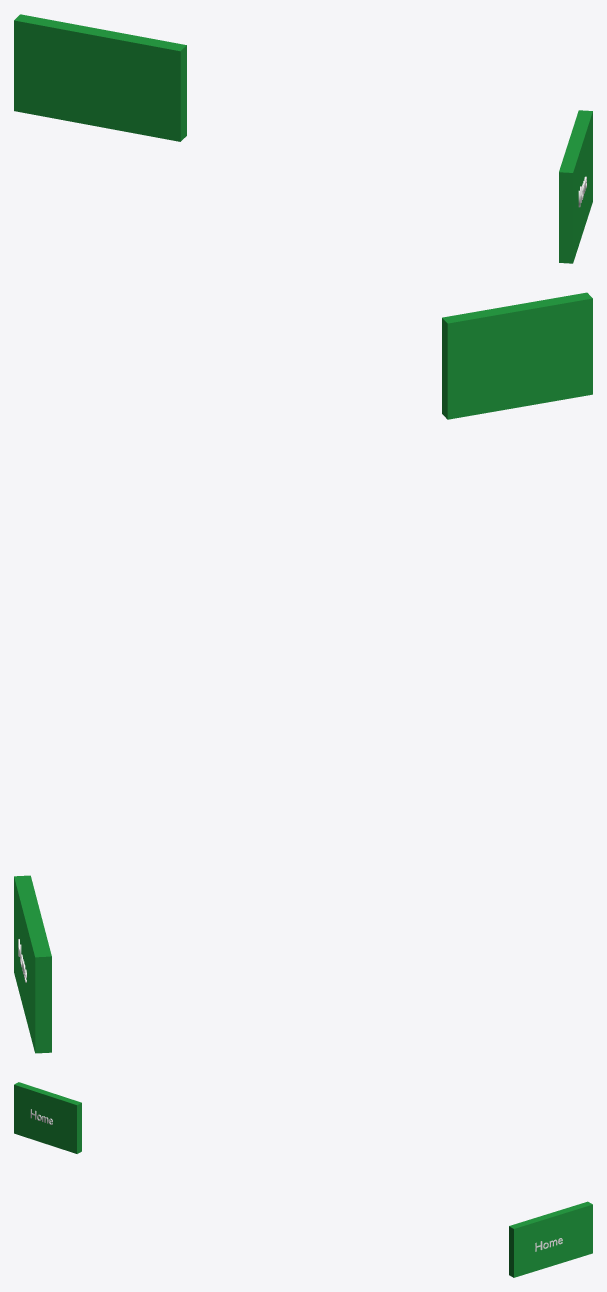
File: HomeSigns.glb
3 views of the same model, one above another, from view 1: azimuth 30°, elevation 25°; view 2: azimuth 150°, elevation 25°; view 3: azimuth 270°, elevation 25° (orthographic). The views are drawn at different scales.
Visible parts, largest first — view 1: Cube.056, Cube.047; view 2: Cube.047, Cube.056; view 3: Cube.056, Cube.047.
Boxes of the visible parts, box(x1,y1,x2,y2) form: Cube.056: box(14, 14, 186, 141); Cube.047: box(559, 110, 592, 263); Cube.047: box(442, 292, 592, 419); Cube.056: box(14, 875, 51, 1053); Cube.056: box(509, 1201, 592, 1277); Cube.047: box(14, 1082, 81, 1153).
Size of the model in its own units: 2.37 by 6.86 by 20.8.
